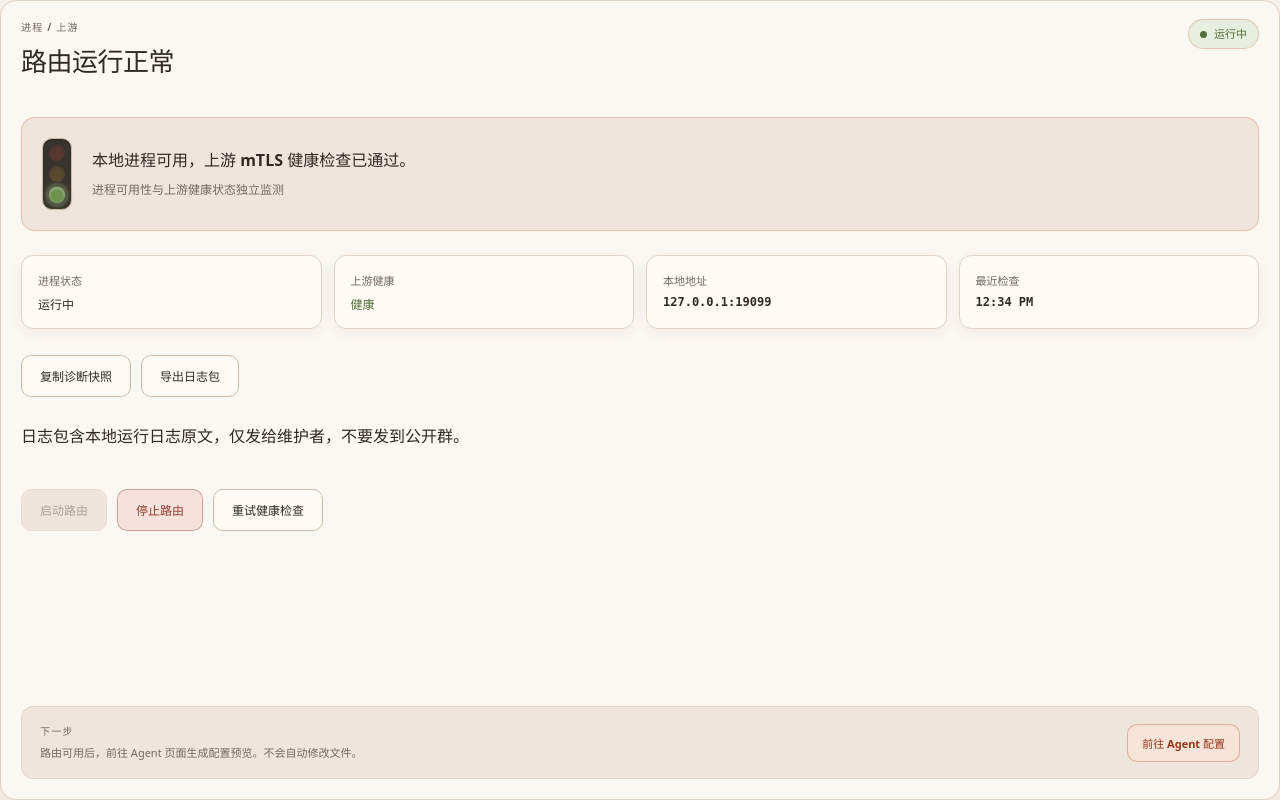
Test case: RouterPage states › exports a support bundle and reports cancelled exports without alert role
Expected: the heading "路由运行正常" is shown, top-left (21, 41), bottom-right (174, 79)
Click the button "导出日志包" at (190, 376), box top-left (141, 355), bottom-right (239, 397)
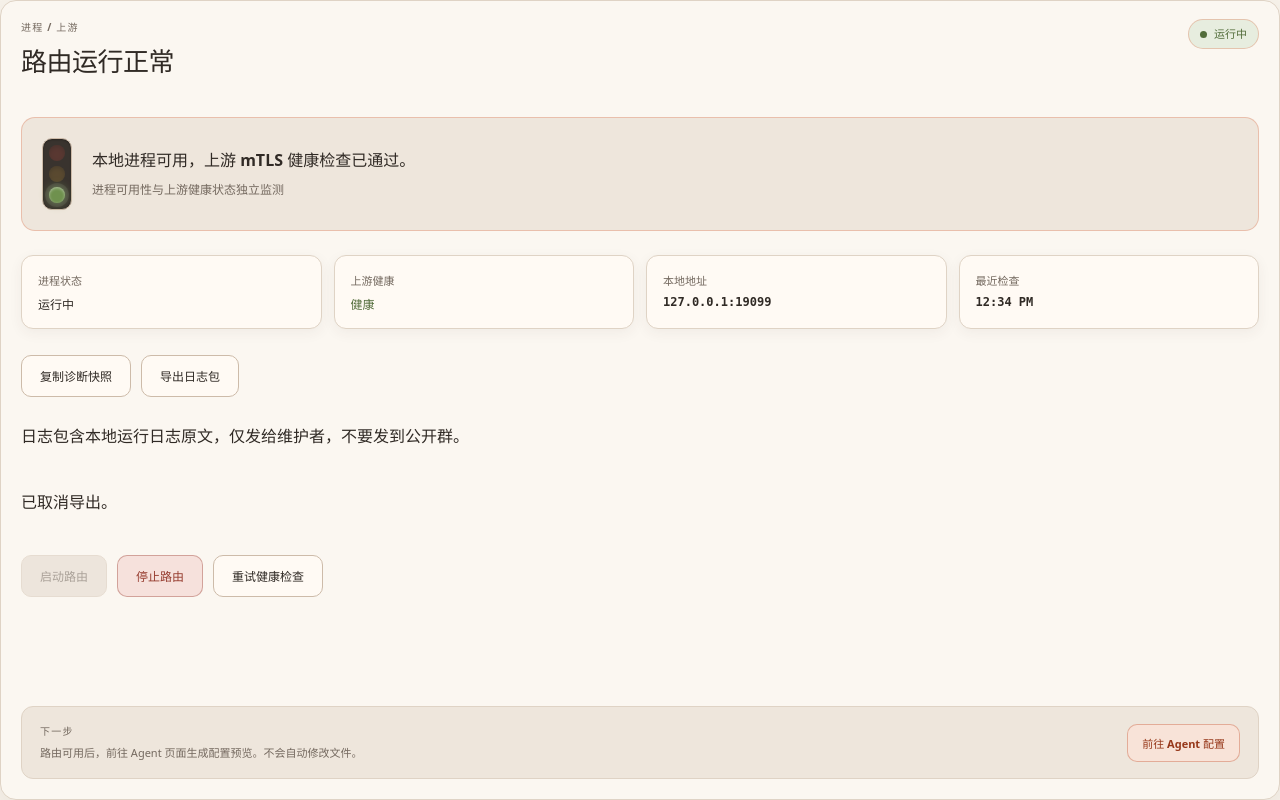
Expected: the text "已取消导出。" is shown, top-left (21, 491), bottom-right (117, 513)
